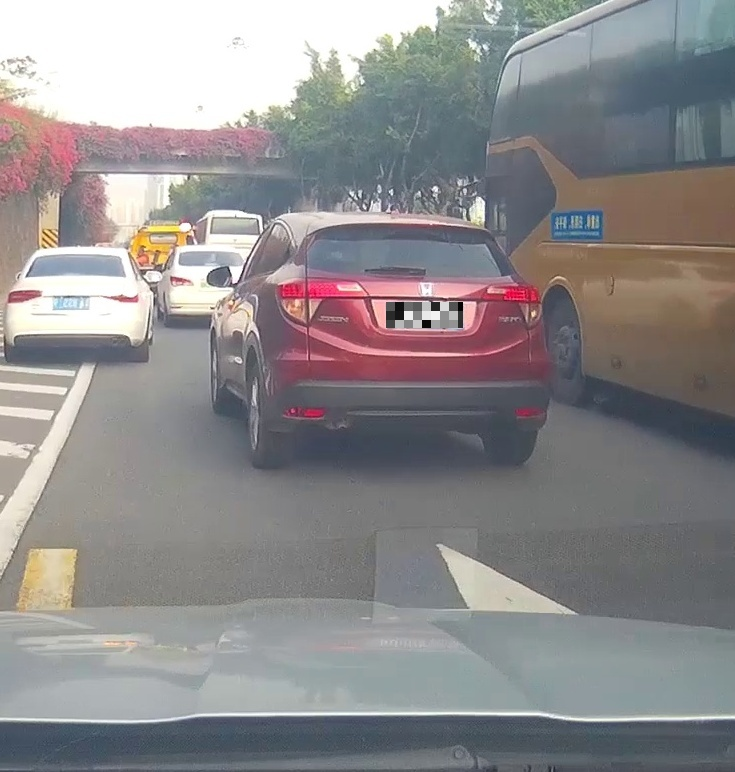L_light: (277, 278, 367, 325), (6, 289, 42, 303)
R_light: (481, 281, 542, 328), (101, 290, 138, 304)
T_light: (393, 224, 439, 232), (69, 254, 96, 258)
day-no: (271, 214, 551, 465), (3, 246, 149, 363)
plate_1: (386, 302, 463, 328)
